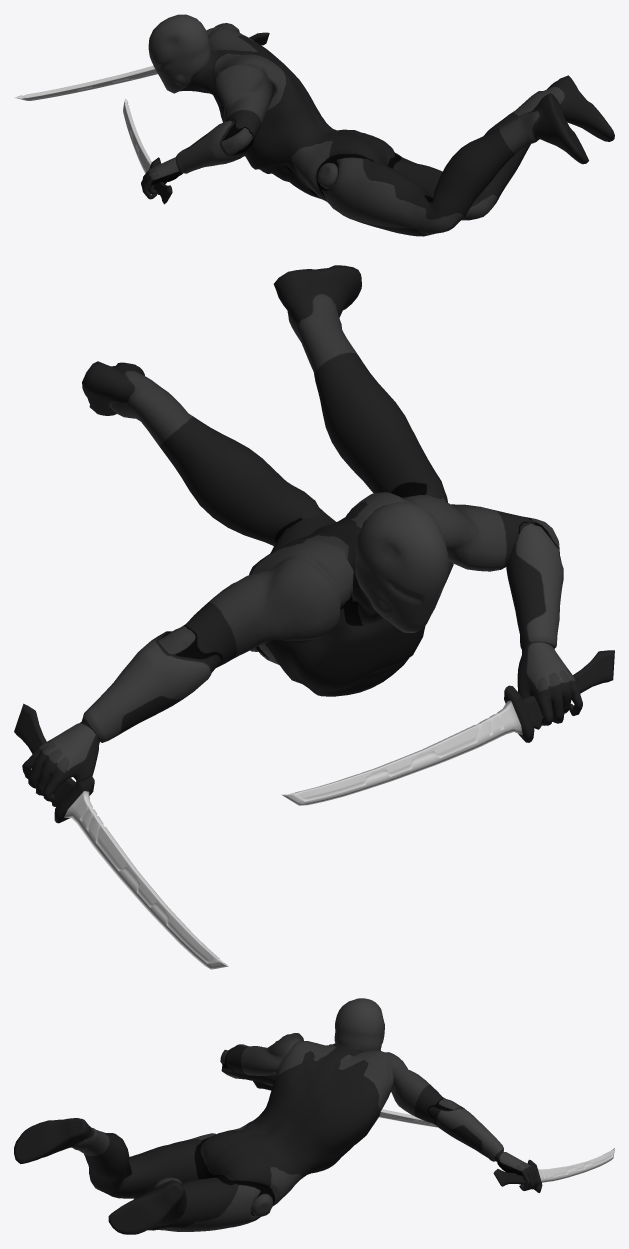
The picture shows the model from 3 angles, top to bottom: view 1: azimuth 30°, elevation 25°; view 2: azimuth 150°, elevation 25°; view 3: azimuth 270°, elevation 25°; orthographic projection. The views are drawn at different scales.
Visible parts, largest first — view 1: Cyborg_Ninja_Killer, Sword_l001, Sword_l; view 2: Cyborg_Ninja_Killer, Sword_l, Sword_l001; view 3: Cyborg_Ninja_Killer, Sword_l001, Sword_l.
Boxes of the visible parts, x1,y1,x2,y2 form: Cyborg_Ninja_Killer: (141, 14, 614, 236); Sword_l001: (14, 32, 269, 100); Sword_l: (123, 98, 172, 204); Cyborg_Ninja_Killer: (22, 265, 582, 801); Sword_l: (281, 650, 614, 805); Sword_l001: (14, 703, 228, 969); Cyborg_Ninja_Killer: (14, 998, 539, 1234); Sword_l001: (493, 1148, 614, 1192); Sword_l: (253, 1081, 438, 1127).
Size of the model in its own units: 146 by 66.22 by 217.
2 materials, 2 textured.
